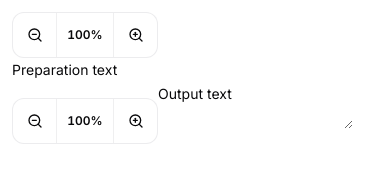
Test case: meeting-note zoom control › clamps to supported steps and disables boundary actions
Click the button named "Zoom out Inputs".
click(35, 35)  # box [13,13,57,57]
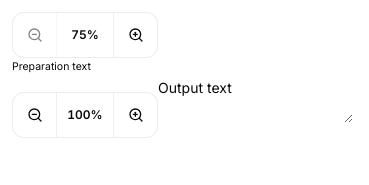
expect the button named "Zoom out Inputs" is disabled: met, box [13,13,57,57]
expect the element named "Inputs zoom controls" reads "75%": met, box [12,12,158,58]
Click the button named "Zoom in Inputs".
click(135, 35)  # box [113,13,157,57]
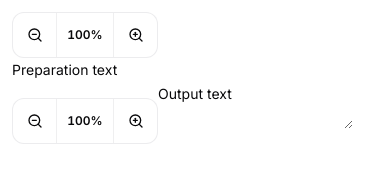
Click the button named "Zoom in Inputs".
click(135, 35)  # box [113,13,157,57]
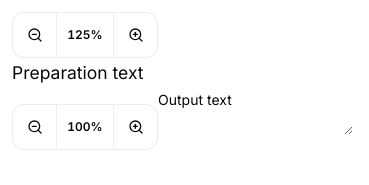
Click the button named "Zoom in Inputs".
click(135, 35)  # box [113,13,157,57]
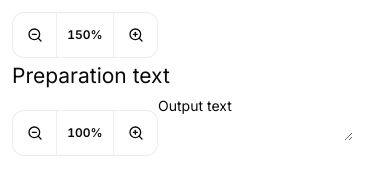
Click the button named "Zoom in Inputs".
click(135, 35)  # box [113,13,157,57]
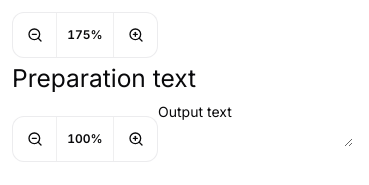
Click the button named "Zoom in Inputs".
click(135, 35)  # box [113,13,157,57]
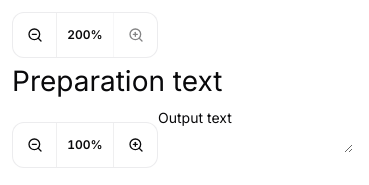
expect the button named "Zoom in Inputs" is disabled: met, box [113,13,157,57]
expect the element named "Inputs zoom controls" reads "200%": met, box [12,12,158,58]
